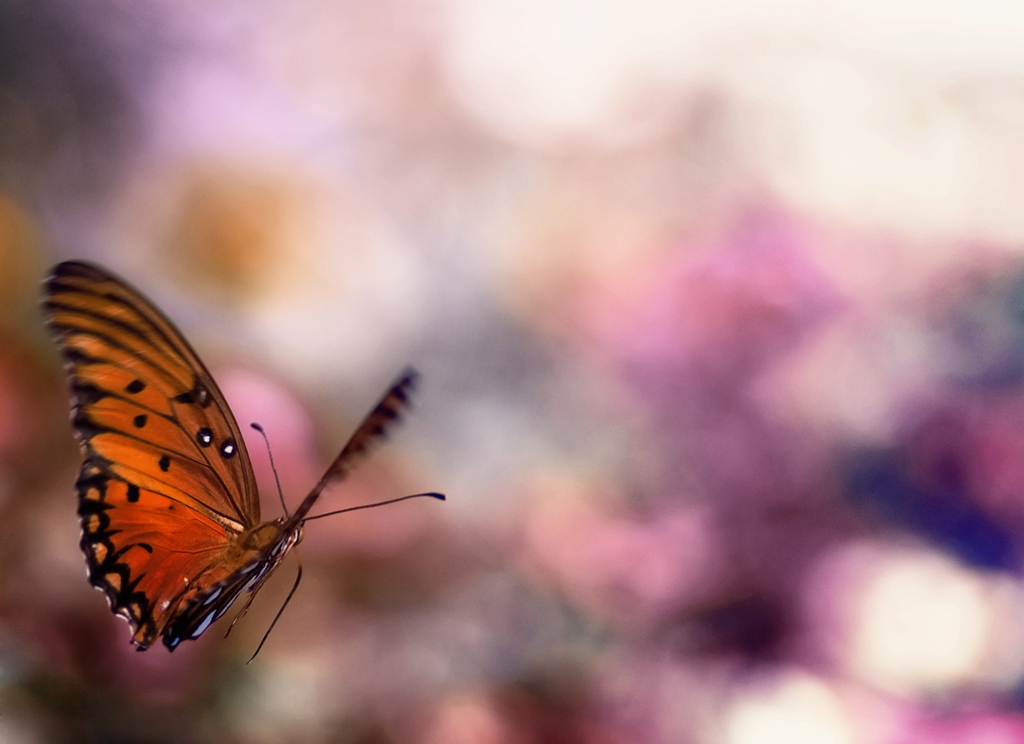Butterfly: (34, 246, 435, 676)
